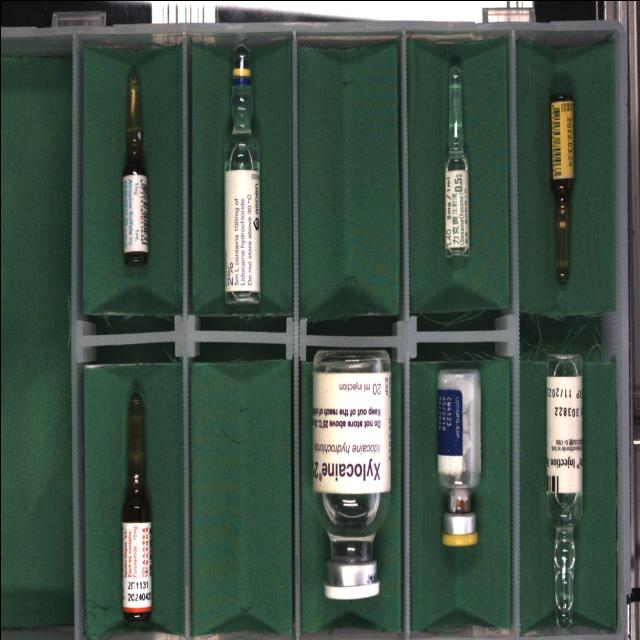Vials: (311, 350, 391, 598), (437, 369, 480, 546)
